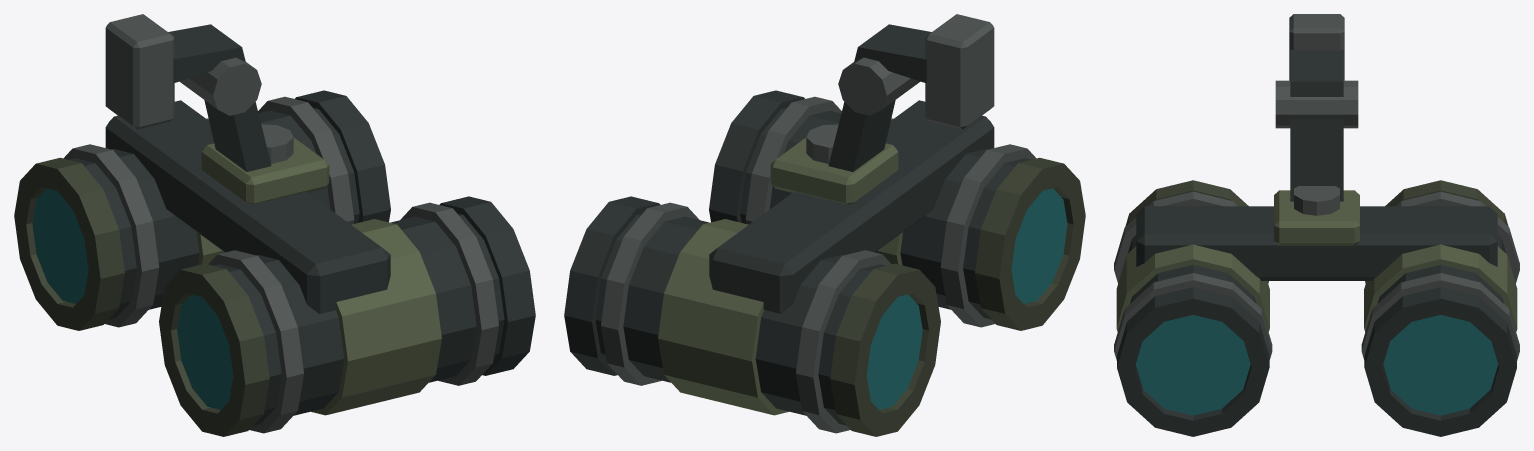
The model's file is SM_HelmetNight.fbx.
The picture shows the model from 3 angles, left to right: view 1: azimuth 30°, elevation 25°; view 2: azimuth 150°, elevation 25°; view 3: azimuth 270°, elevation 25°; orthographic projection. The views are drawn at different scales.
Parts seen in each view (by area): view 1: SM_HelmetNight.001; view 2: SM_HelmetNight.001; view 3: SM_HelmetNight.001.
Boxes of the visible parts, bbox=[...] form: SM_HelmetNight.001: bbox=[14, 14, 535, 436]; SM_HelmetNight.001: bbox=[564, 14, 1085, 436]; SM_HelmetNight.001: bbox=[1114, 14, 1519, 436].
Size of the model in its own units: 8.6 by 11.8 by 9.7.
